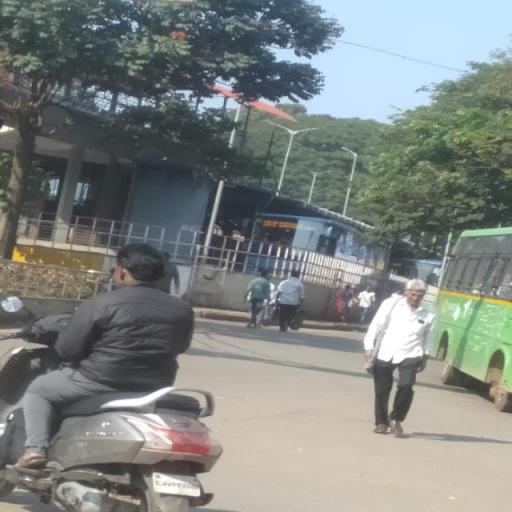bike: (1, 230, 225, 512)
withouthelmet: (116, 246, 166, 285)
